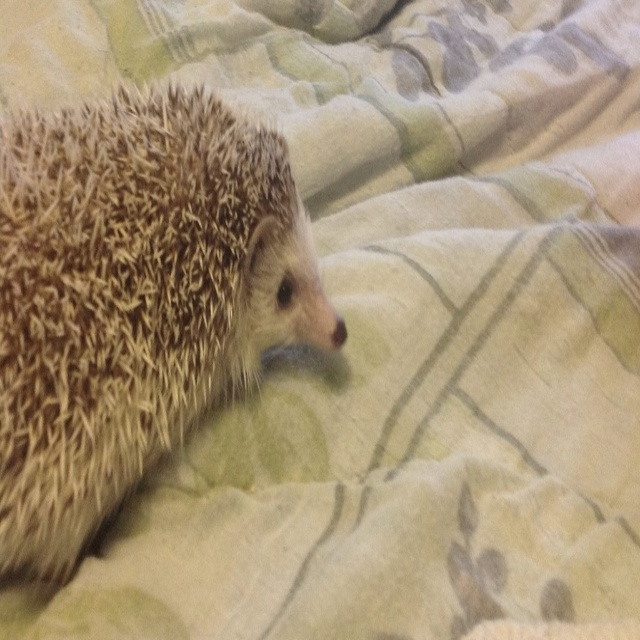Hedgehog: (0, 77, 349, 589)
